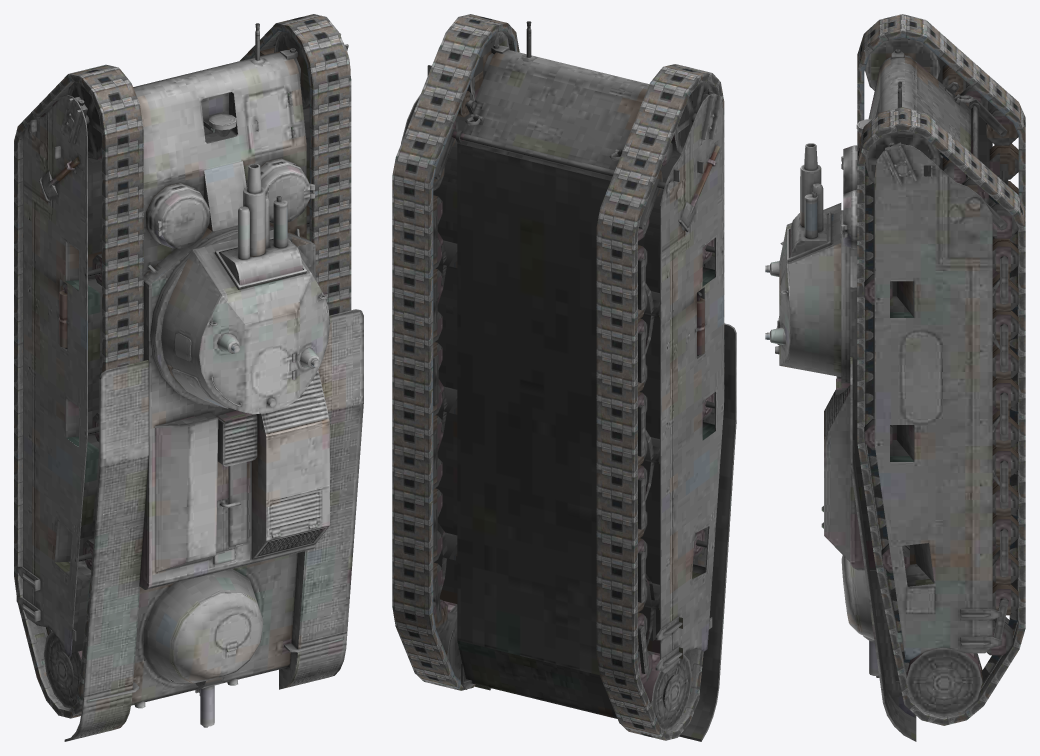
3 views of the same model, side by side, from view 1: azimuth 30°, elevation 25°; view 2: azimuth 150°, elevation 25°; view 3: azimuth 270°, elevation 25° (orthographic). The views are drawn at different scales.
Parts seen in each view (by area): view 1: hull, turret_01, chassis_track_L, chassis_track_R, gun_01, chassis_wheel_L_20, chassis_wheel_L_01, chassis_wheel_R_01; view 2: hull, chassis_track_L, chassis_track_R, chassis_wheel_L_20, chassis_wheel_L_01, chassis_wheel_R_20, chassis_wheel_R_01; view 3: hull, chassis_track_R, turret_01, chassis_track_L, chassis_wheel_R_20, gun_01, chassis_wheel_L_01, chassis_wheel_R_01, chassis_wheel_L_05, chassis_wheel_R_05, chassis_wheel_L_04, chassis_wheel_R_10 (+11 smaller).
Boxes of the visible parts, x1,y1,x2,y2 form: hull: [16, 23, 363, 741]; turret_01: [161, 229, 330, 414]; chassis_track_L: [14, 64, 143, 718]; chassis_track_R: [240, 14, 351, 315]; gun_01: [219, 163, 302, 285]; chassis_wheel_L_20: [44, 631, 82, 708]; chassis_wheel_L_01: [68, 82, 101, 159]; chassis_wheel_R_01: [274, 31, 309, 109]; hull: [401, 21, 736, 741]; chassis_track_L: [596, 64, 724, 740]; chassis_track_R: [392, 14, 519, 690]; chassis_wheel_L_20: [643, 651, 691, 730]; chassis_wheel_L_01: [671, 81, 712, 156]; chassis_wheel_R_20: [438, 601, 462, 680]; chassis_wheel_R_01: [467, 31, 509, 101]; hull: [821, 49, 1008, 741]; chassis_track_R: [857, 107, 1025, 725]; turret_01: [765, 203, 841, 376]; chassis_track_L: [857, 14, 1025, 581]; chassis_wheel_R_20: [906, 647, 982, 716]; gun_01: [790, 143, 828, 257]; chassis_wheel_L_01: [865, 37, 940, 90]; chassis_wheel_R_01: [865, 130, 940, 183]; chassis_wheel_L_05: [989, 143, 1018, 179]; chassis_wheel_R_05: [992, 238, 1018, 272]; chassis_wheel_L_04: [986, 106, 1018, 145]; chassis_wheel_R_10: [992, 376, 1018, 409].
Bounding box in the file's own units: 2.76 × 6.52 × 2.47.
2 materials, 2 textured.
